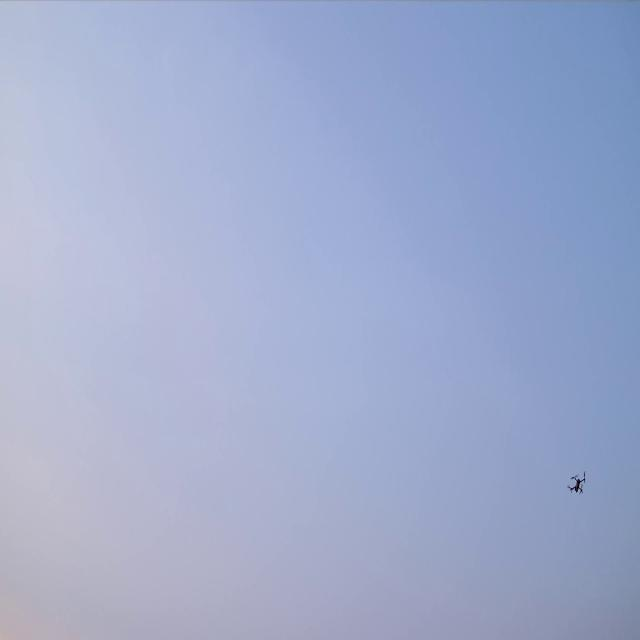UAV: (570, 474, 585, 492)
